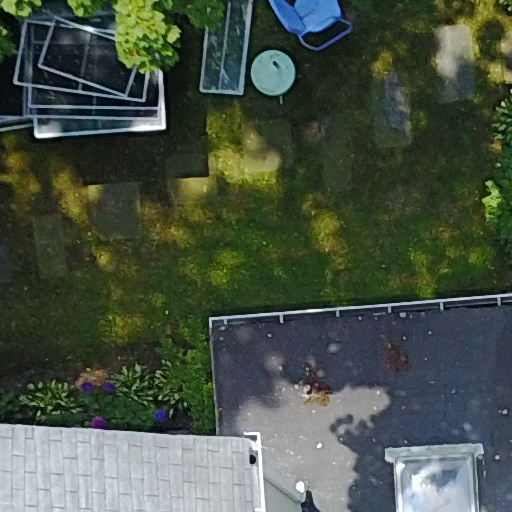container: (267, 56, 280, 69)
